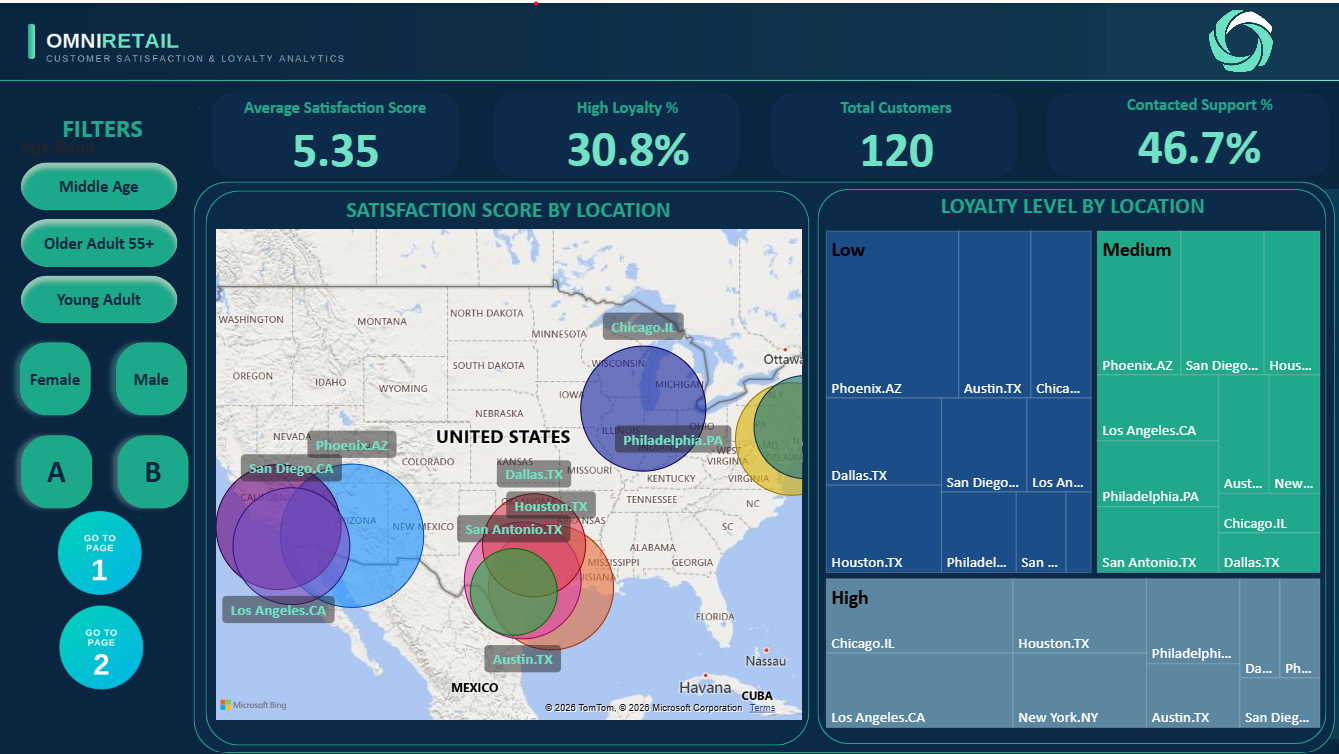

This screenshot's page, from the dashboard's own definition file:
{"tool":"powerbi","page":{"name":"Dashboard 3","canvas":[1280,720],"ordinal":3},"visuals":[{"type":"shape","box":[191,75,1088,103],"z":0},{"type":"shape","box":[202,85.9,236.7,80],"z":1000},{"type":"shape","box":[0,75,190,645],"z":2000},{"type":"shape","box":[1000,85.6,270,79.9],"z":3000},{"type":"shape","box":[735.6,85.6,235,79.9],"z":4000},{"type":"shape","box":[470.6,86.6,235,79.9],"z":5000},{"type":"card","fields":{"Values":["Table1.% High Loyalty"]},"box":[530,102,139,67],"z":6000},{"type":"shape","box":[189.7,703.1,1088.6,16.9],"z":7000},{"type":"card","fields":{"Values":["Table1.Average Satifaction Score"]},"box":[266,109,108,55],"z":8000},{"type":"card","fields":{"Values":["Table1.Total Customers"]},"box":[798,107,116,57],"z":9000},{"type":"card","fields":{"Values":["Table1.Contacted Support"]},"box":[1075,103.3,141.7,60],"z":10000},{"type":"shape","box":[1055,0,225,71.7],"z":11000},{"type":"textbox","box":[222,85,196,32],"z":12000},{"type":"textbox","box":[516,85,167,37],"z":13000},{"type":"textbox","box":[791,85,130,31],"z":14000},{"type":"textbox","box":[1066,82,160,35],"z":15000},{"type":"advancedSlicerVisual","fields":{"Values":["Table1.Age Band"]},"box":[14.3,127.1,160,185.7],"z":16000},{"type":"advancedSlicerVisual","fields":{"Values":["Table1.Gender"]},"box":[1.4,307.1,194.3,104.3],"z":17000},{"type":"advancedSlicerVisual","fields":{"Values":["Table1.Group"]},"box":[2.7,395.5,194.5,104],"z":18000},{"type":"textbox","box":[53.3,98.3,90,45],"z":19000},{"type":"shape","box":[185,170,1090,546.7],"z":20000},{"type":"shape","box":[196.7,178.3,576.7,530],"z":21000},{"type":"shape","box":[781,178,486,530],"z":22000},{"type":"treemap","title":"LOYALTY LEVEL BY LOCATION","fields":{"Group":["Table1.Loyalty_Level"],"Details":["Table1.Location"],"Values":["CountNonNull(Table1.Loyalty_Level)"]},"box":[778.3,180,493.3,522],"z":23000},{"type":"map","title":"SATISFACTION SCORE BY LOCATION","fields":{"Series":["Table1.Location"],"Y":["Avg(Table1.Latitude)"],"X":["Avg(Table1.Longitude)"],"Size":["CountNonNull(Table1.Satisfaction_Score)"],"Category":["Table1.Location"]},"box":[200,185,570,505],"z":24000},{"type":"image","box":[0,480,190,90],"z":25000},{"type":"image","box":[1.7,570,190,90],"z":26000},{"type":"image","box":[1136.7,1.7,96.7,71.7],"z":27000}]}

Visuals, with their boxes in screenshot pixels (x1, y1, x2, y2), scaled from the page's 1280x720 canvas onto the 1339x754 screenshot:
shape: crop(200, 79, 1338, 186)
shape: crop(211, 90, 459, 174)
shape: crop(0, 79, 199, 753)
shape: crop(1046, 90, 1329, 173)
shape: crop(770, 90, 1015, 173)
shape: crop(492, 91, 738, 174)
card - Table1.% High Loyalty: crop(554, 107, 700, 177)
shape: crop(198, 736, 1337, 753)
card - Table1.Average Satifaction Score: crop(278, 114, 391, 172)
card - Table1.Total Customers: crop(835, 112, 956, 172)
card - Table1.Contacted Support: crop(1125, 108, 1273, 171)
shape: crop(1104, 0, 1338, 75)
textbox: crop(232, 89, 437, 123)
textbox: crop(540, 89, 714, 128)
textbox: crop(827, 89, 963, 121)
textbox: crop(1115, 86, 1283, 123)
advancedSlicerVisual - Table1.Age Band: crop(15, 133, 182, 328)
advancedSlicerVisual - Table1.Gender: crop(1, 322, 205, 431)
advancedSlicerVisual - Table1.Group: crop(3, 414, 206, 523)
textbox: crop(56, 103, 150, 150)
shape: crop(194, 178, 1334, 751)
shape: crop(206, 187, 809, 742)
shape: crop(817, 186, 1325, 741)
"LOYALTY LEVEL BY LOCATION" treemap: crop(814, 188, 1330, 735)
"SATISFACTION SCORE BY LOCATION" map: crop(209, 194, 805, 723)
image: crop(0, 503, 199, 597)
image: crop(2, 597, 201, 691)
image: crop(1189, 2, 1290, 77)
